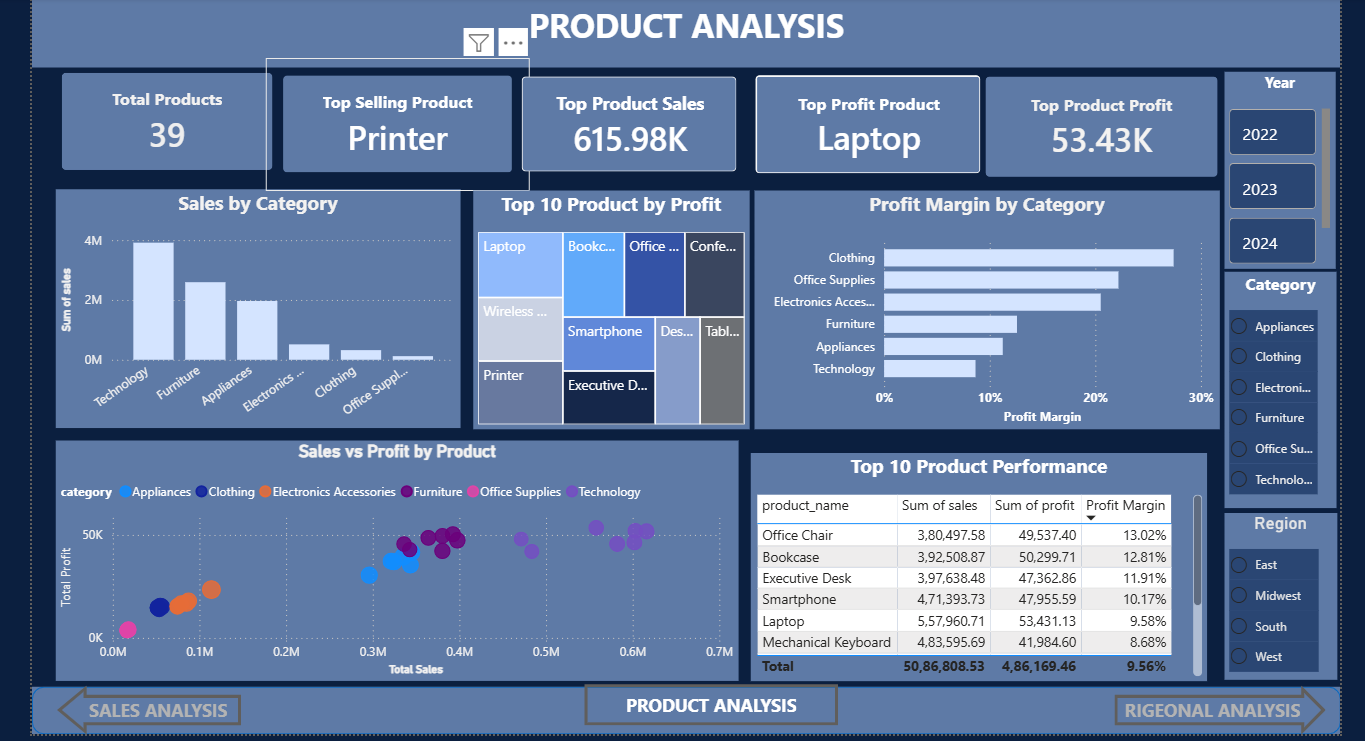

What the dashboard file says about the page in this screenshot:
{"tool":"powerbi","page":{"name":"PRODUCT ANALYSIS","canvas":[1280,720],"ordinal":1},"visuals":[{"type":"shape","box":[0,673.5,1280.3,46.5],"z":0},{"type":"textbox","box":[0,0,1280.4,68],"z":1000},{"type":"cardVisual","fields":{"Data":["sales_dataset.TotalProducts"]},"box":[12.3,56.8,240.7,129.6],"z":2000},{"type":"columnChart","title":"Sales by Category","fields":{"Y":["Sum(sales_dataset.sales)"],"Category":["sales_dataset.category"]},"box":[23.3,186.7,395.8,233.8],"z":3000},{"type":"barChart","title":"Profit Margin by Category","fields":{"Category":["sales_dataset.category"],"Y":["sales_dataset.Profit Margin"]},"box":[706.7,188.3,454.9,233.8],"z":4000},{"type":"scatterChart","title":"Sales vs Profit by Product","fields":{"Size":["Sum(sales_dataset.quantity)"],"Series":["sales_dataset.category"],"X":["sales_dataset.Total Sales"],"Y":["sales_dataset.Total Profit"],"Category":["sales_dataset.product_name"]},"box":[23.3,433.3,668.3,235],"z":5000},{"type":"cardVisual","fields":{"Data":["sales_dataset.Top Product Profit"]},"box":[916,60.5,261.7,132.1],"z":6000},{"type":"tableEx","title":"Top 10 Product Performance","fields":{"Values":["sales_dataset.product_name","Sum(sales_dataset.sales)","Sum(sales_dataset.profit)","sales_dataset.Profit Margin"]},"box":[703.3,445,446.7,223.3],"z":7000},{"type":"actionButton","box":[24,672,180,48],"z":8000},{"type":"actionButton","box":[540.3,671.4,248.1,40.3],"z":9000},{"type":"actionButton","box":[1058.7,672,206.7,48],"z":10000},{"type":"listSlicer","title":"Region","fields":{"Values":["sales_dataset.region"]},"box":[1167.1,504.3,110,162.9],"z":11000},{"type":"listSlicer","title":"Category","fields":{"Values":["sales_dataset.category"]},"box":[1166.7,267.9,109.9,230.9],"z":12000},{"type":"advancedSlicerVisual","fields":{"Values":["sales_dataset.order_date.Variation.Date Hierarchy.Year"]},"box":[1166.7,71.6,108.6,192.6],"z":13000},{"type":"cardVisual","fields":{"Data":["sales_dataset.Top Selling Product"]},"box":[228.4,59.3,258,129.6],"z":14000},{"type":"cardVisual","fields":{"Data":["sales_dataset.Top Product Sales"]},"box":[461.7,60.5,244.4,127.2],"z":15000},{"type":"treemap","title":"Top 10 Product by Profit","fields":{"Group":["sales_dataset.product_name"],"Values":["sales_dataset.Total Profit"]},"box":[431.7,188.3,270.4,233.8],"z":16000},{"type":"cardVisual","fields":{"Data":["sales_dataset.Top Proofcit Product"]},"box":[691.4,59.3,254.3,130.9],"z":17000}]}

Visuals, with their boxes on the page's 1280x720 design canvas (x1, y1, x2, y2). These are canvas units, not pixel positions in the 1365x741 screenshot, which may show the page scaled, cropped or inside an application window:
shape: <region>0, 674, 1280, 720</region>
textbox: <region>0, 0, 1280, 68</region>
cardVisual - sales_dataset.TotalProducts: <region>12, 57, 253, 186</region>
"Sales by Category" columnChart: <region>23, 187, 419, 420</region>
"Profit Margin by Category" barChart: <region>707, 188, 1162, 422</region>
"Sales vs Profit by Product" scatterChart: <region>23, 433, 692, 668</region>
cardVisual - sales_dataset.Top Product Profit: <region>916, 60, 1178, 193</region>
"Top 10 Product Performance" tableEx: <region>703, 445, 1150, 668</region>
actionButton: <region>24, 672, 204, 720</region>
actionButton: <region>540, 671, 788, 712</region>
actionButton: <region>1059, 672, 1265, 720</region>
"Region" listSlicer: <region>1167, 504, 1277, 667</region>
"Category" listSlicer: <region>1167, 268, 1277, 499</region>
advancedSlicerVisual - sales_dataset.order_date.Variation.Date Hierarchy.Year: <region>1167, 72, 1275, 264</region>
cardVisual - sales_dataset.Top Selling Product: <region>228, 59, 486, 189</region>
cardVisual - sales_dataset.Top Product Sales: <region>462, 60, 706, 188</region>
"Top 10 Product by Profit" treemap: <region>432, 188, 702, 422</region>
cardVisual - sales_dataset.Top Proofcit Product: <region>691, 59, 946, 190</region>
